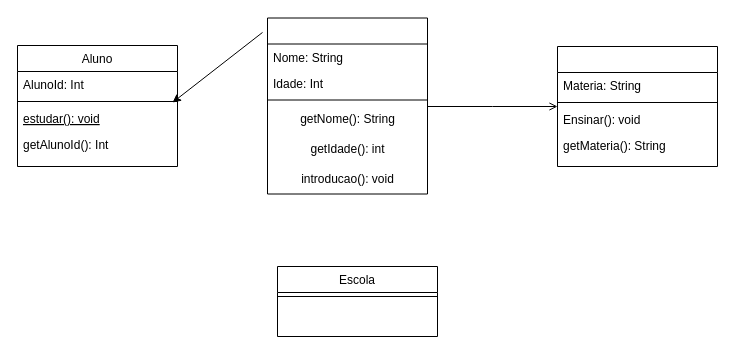
Image size: 735x354. Some labels were removed from this diagram. The box of each missing label's shape, as (x1, y1, x2, y2) in pixels:
Pessoa: (266, 17, 428, 194)
Professor: (556, 46, 718, 166)
